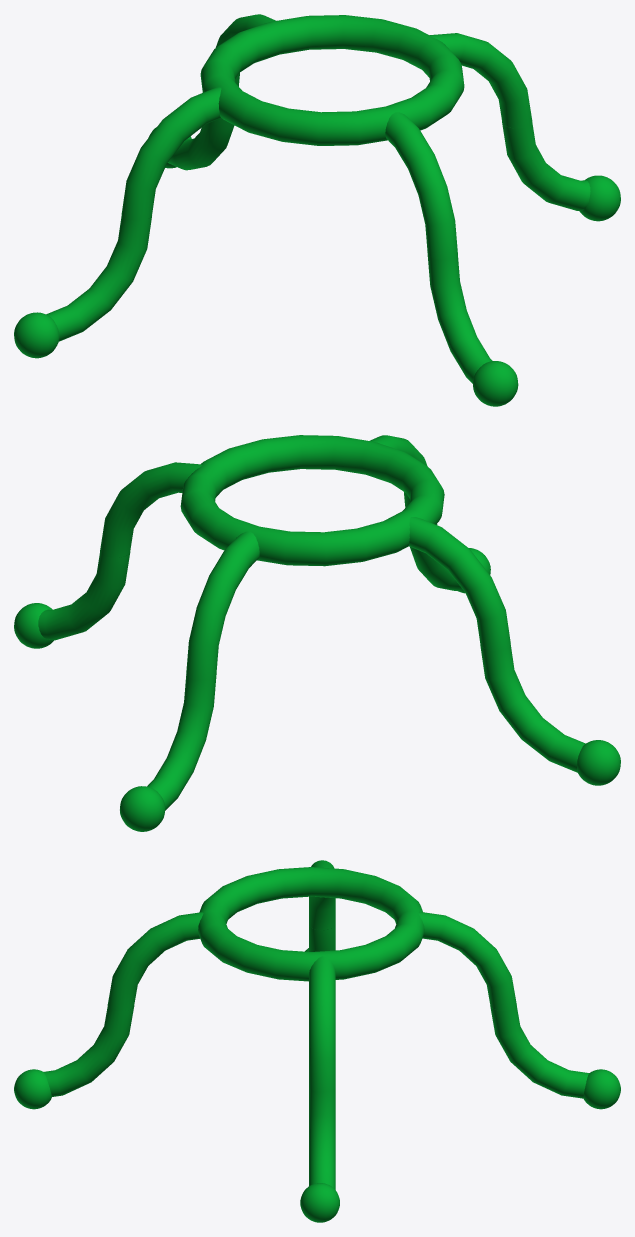
The model's file is Stand.fbx.
3 renders of one model, top to bottom at view 1: azimuth 30°, elevation 25°; view 2: azimuth 150°, elevation 25°; view 3: azimuth 270°, elevation 25°, orthographic. The views are drawn at different scales.
Visible parts, largest first — view 1: Stand; view 2: Stand; view 3: Stand.
Boxes of the visible parts, bbox=[...] form: Stand: bbox=[14, 14, 620, 406]; Stand: bbox=[14, 435, 620, 831]; Stand: bbox=[14, 860, 620, 1222].
Bounding box in the file's own units: 90.88 × 32.34 × 91.24.
